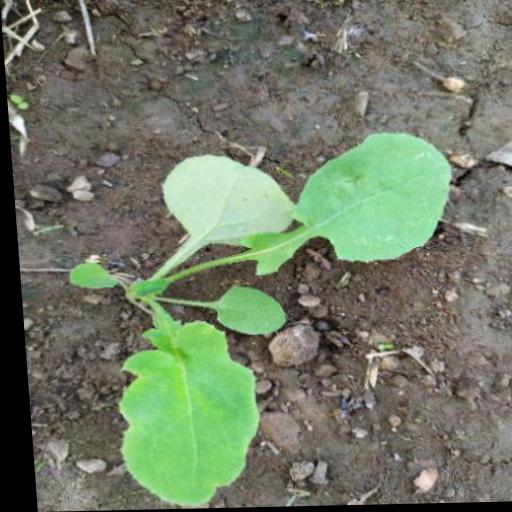weed: (46, 132, 471, 511)
